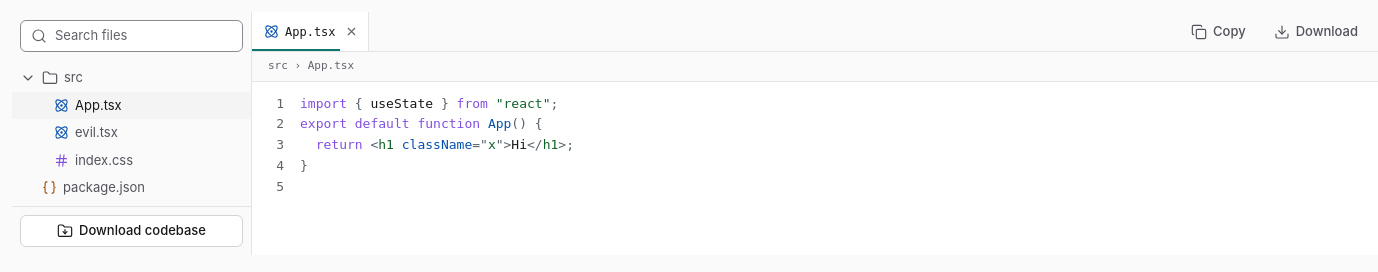
Test: CodeWorkspace › filters files by name and opens a match
Type "pack" into the search field at [144, 36], box top-left (55, 26), bottom-right (232, 46)
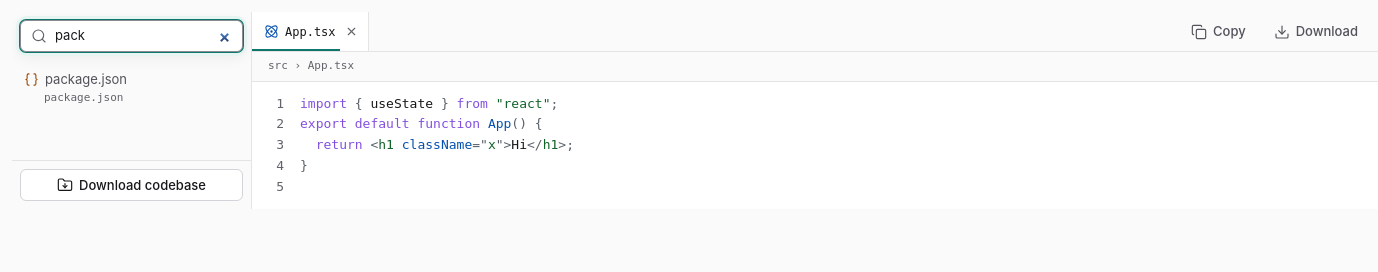
Expected: the list "Matching files" no longer shows "App.tsx"
Click the button "package.json package.json" at [132, 88], box top-left (12, 64), bottom-right (251, 112)
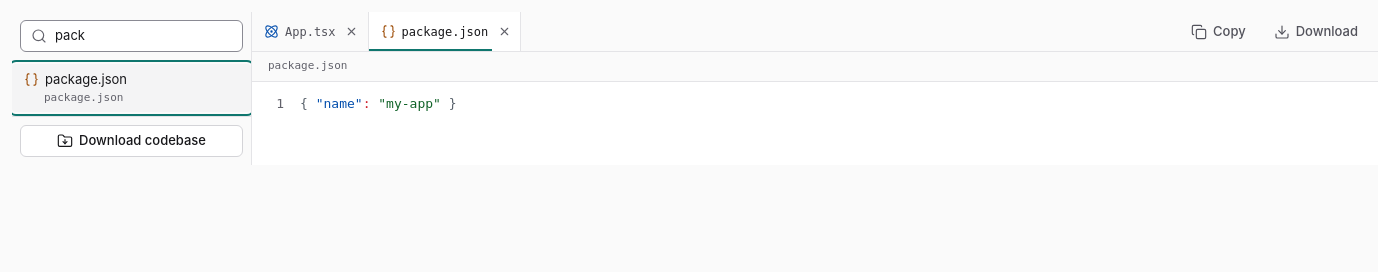
Expected: the element named "Contents of package.json" is shown, top-left (252, 82), bottom-right (1377, 165)
Replace the text in the search field with "zzz" at [144, 36], box top-left (55, 26), bottom-right (232, 46)
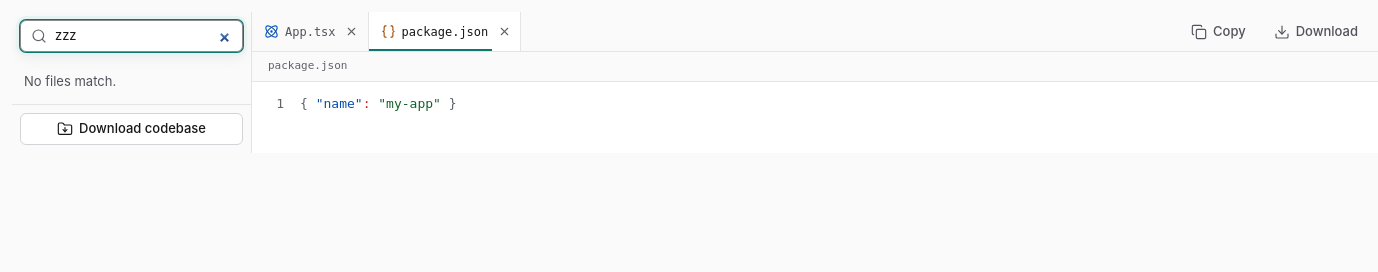
Expected: the text "No files match." is shown, top-left (24, 73), bottom-right (116, 89)
